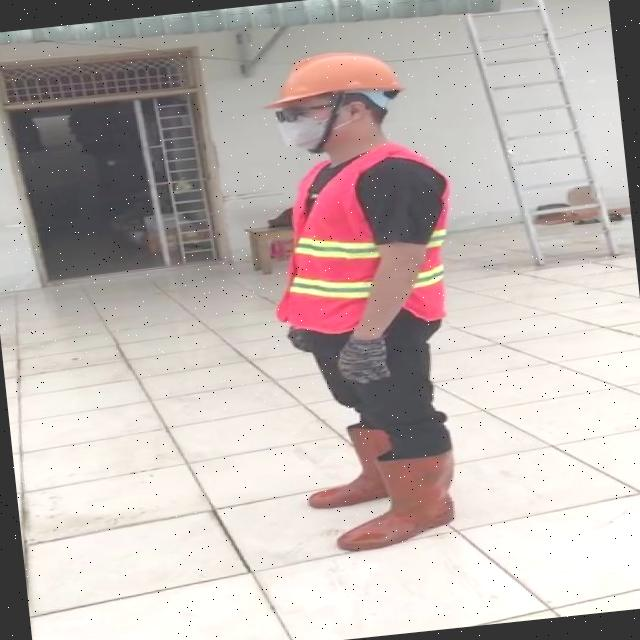boots: (296, 410, 433, 514), (329, 448, 462, 554)
helmet: (260, 44, 404, 108)
vest: (266, 143, 470, 336)
